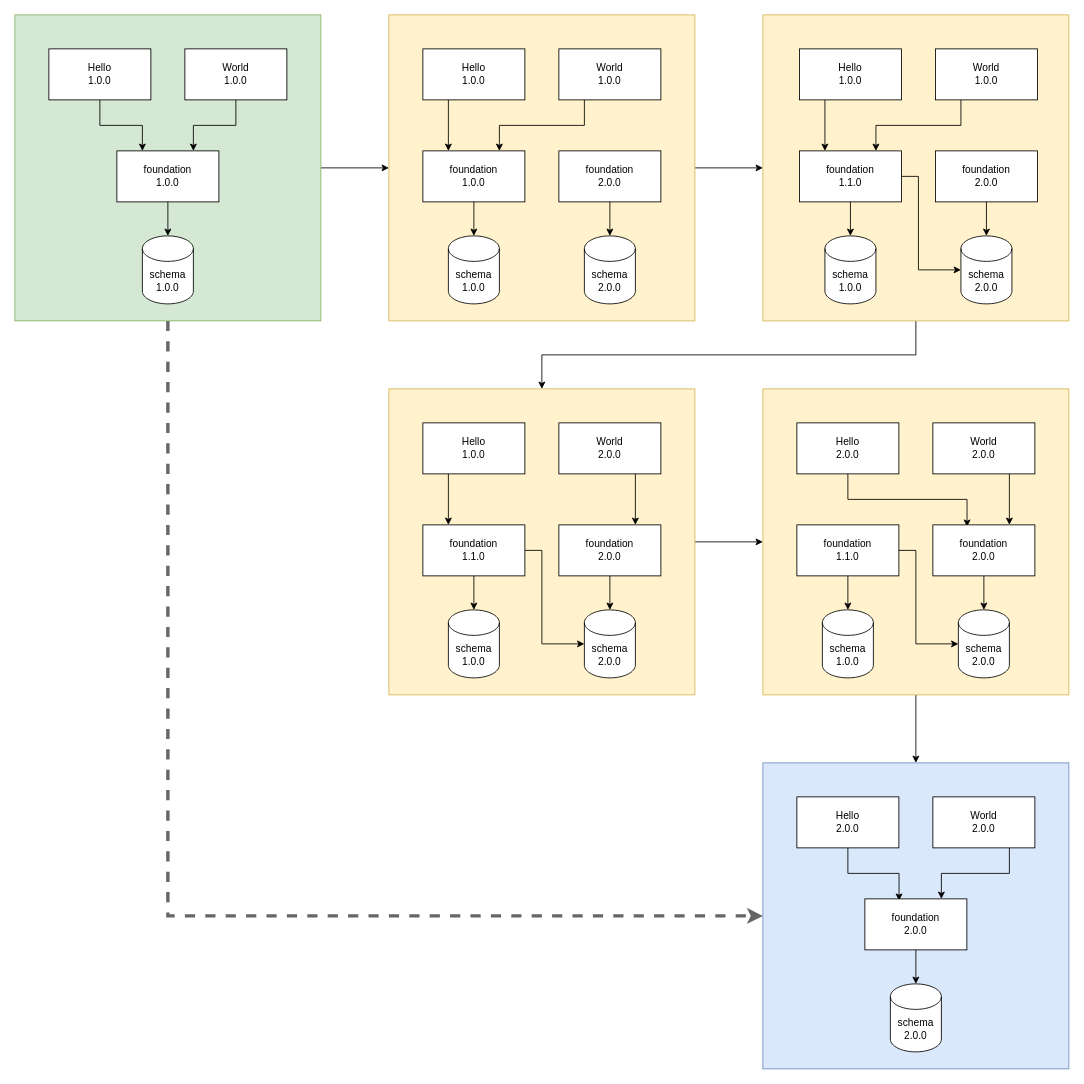
Some shapes in this 1084 by 1084 pixel diagram are drawn without their labels. The shapes that lost their labels are listed below. From the top down, each one's box as (x1, y1, x2, y2) in pixels, then its label:
(14, 14, 321, 321): as-is
(388, 14, 695, 321): step no.1
(762, 14, 1069, 321): step no.2
(388, 388, 695, 695): step no.3
(762, 388, 1069, 695): step no.4
(762, 762, 1069, 1069): step no.5
